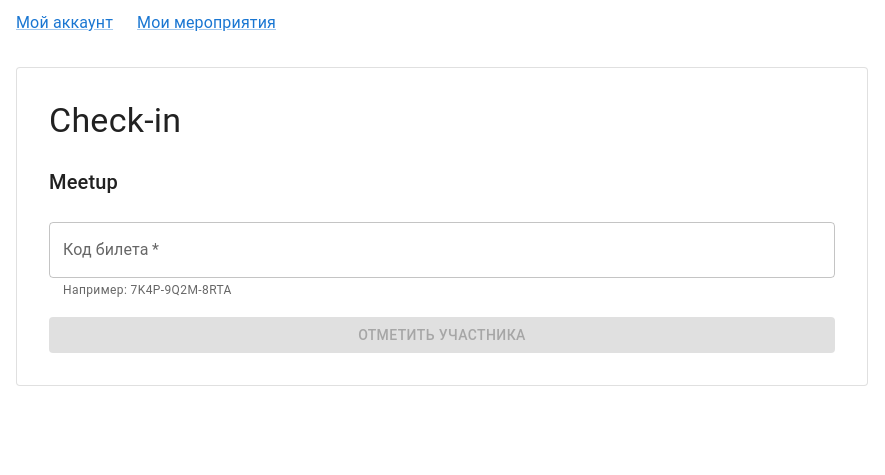
Test: shows safe error CHECKIN_NOT_OPEN without retry
The image size is (885, 475).
Step 1. Type "7k4p-9q2m-8rta" into the field labelled "Код билета *" → (442, 250), box [49,222,835,278]
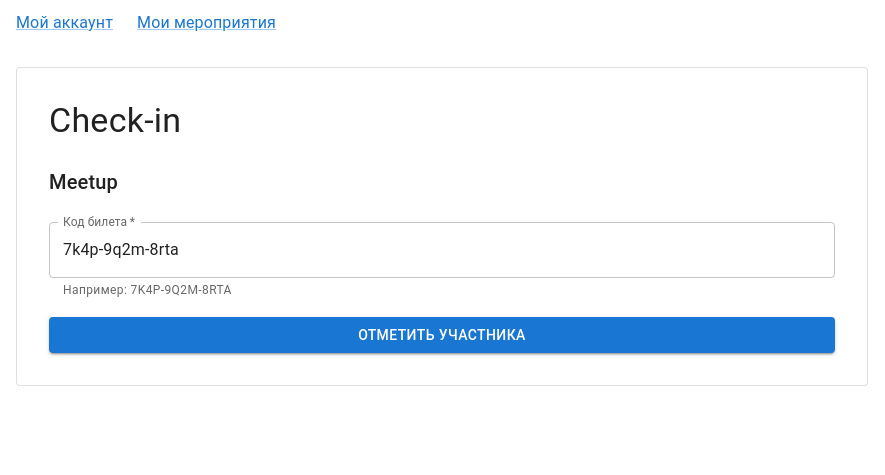
Step 2. Click the button "Отметить участника" → (442, 335), box [49,317,835,353]
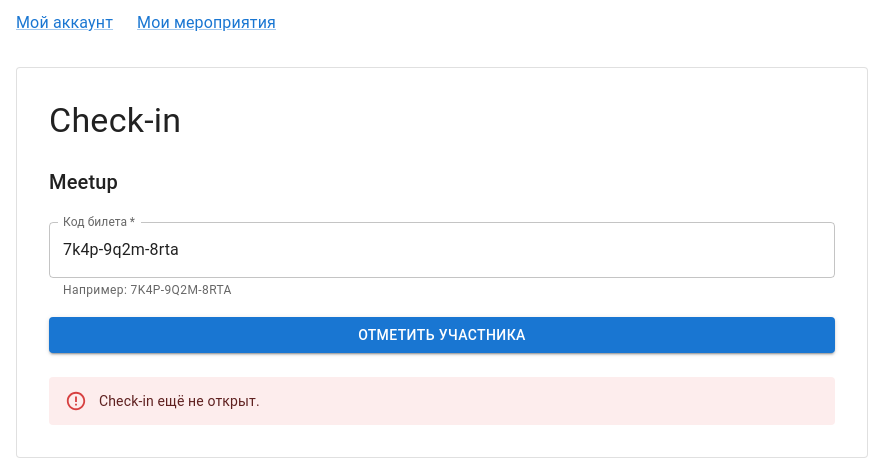
Expected: the message shows "ещё не открыт", [99,393,260,409]
